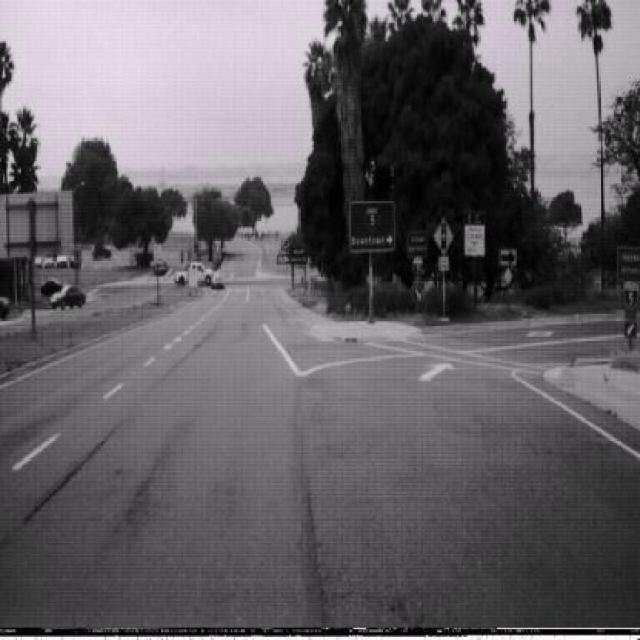signalAhead: (432, 215, 453, 255)
